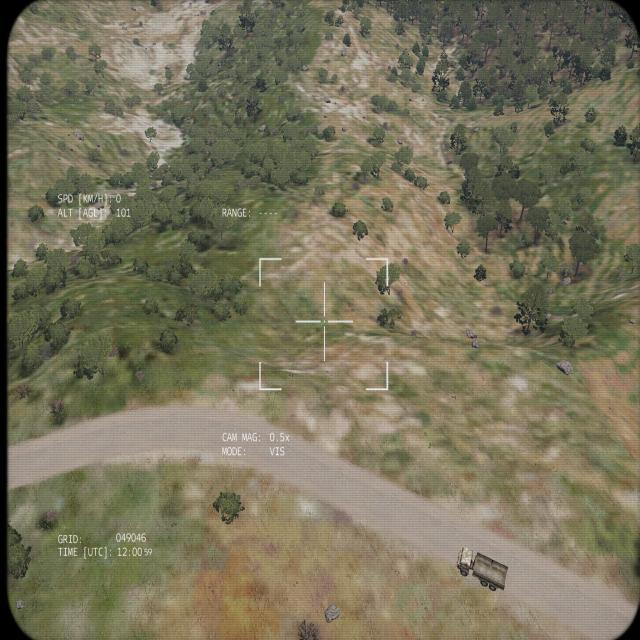truck: (454, 544, 509, 594)
